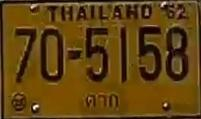0: (40, 28, 62, 81)
1: (120, 26, 126, 82)
5: (85, 27, 108, 81), (138, 26, 161, 80)
7: (14, 28, 36, 82)
8: (165, 26, 187, 80)
TAK: (82, 90, 121, 111)
